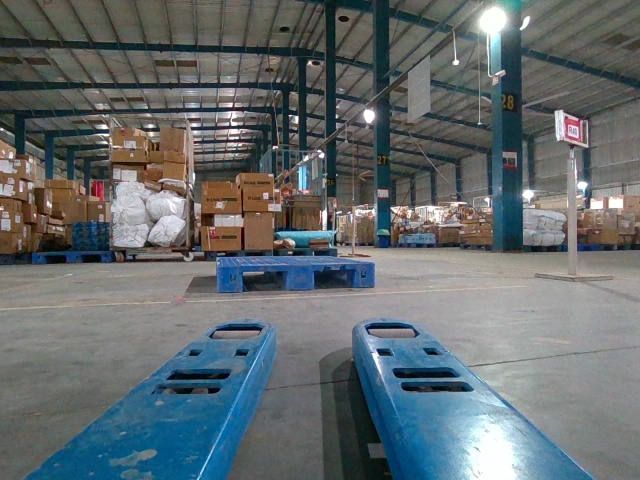block: (286, 262, 314, 290), (216, 266, 242, 293), (355, 263, 375, 287)
front: (217, 262, 374, 293)
hole pallet: (241, 269, 291, 290), (312, 268, 358, 289)
